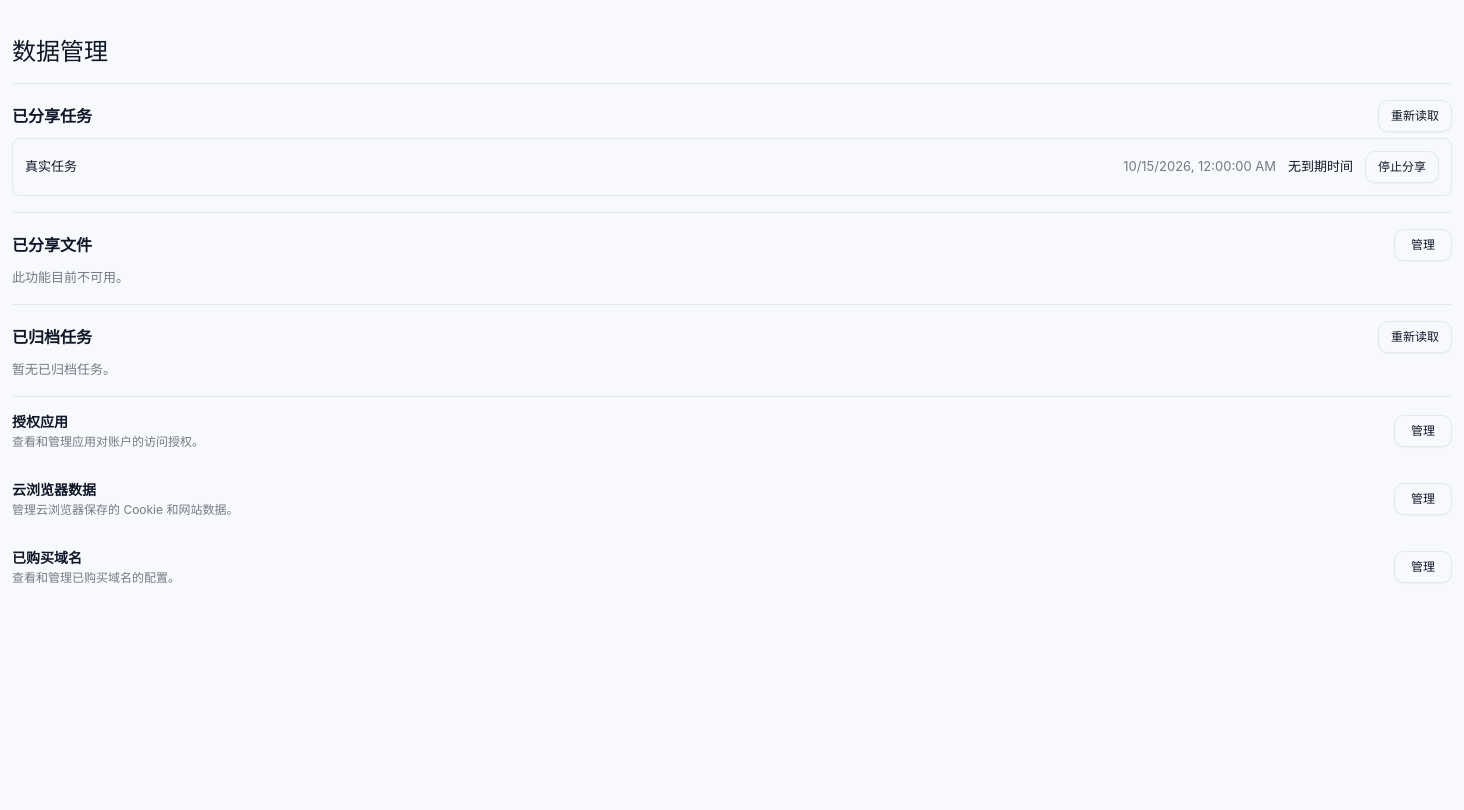
requires confirmation and clears the confirmation when identity retires
Check: the text "真实任务" is shown, box [25, 158, 77, 174]
Click the button "停止分享". click: x=1402, y=167
box: [1365, 151, 1439, 183]
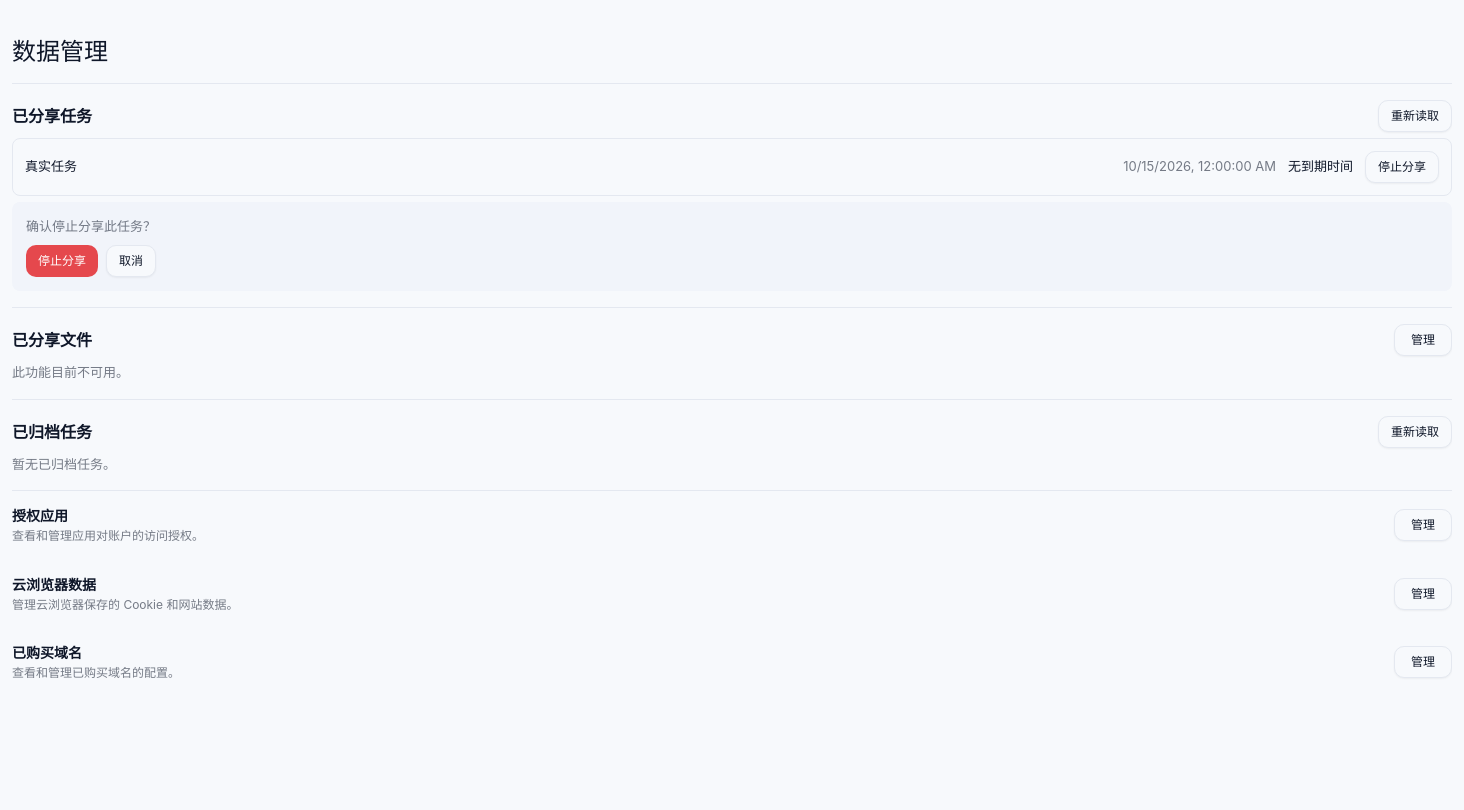
Check: the element showing "确认停止分享此任务？ 停止分享 取消" is shown, box [12, 202, 1452, 291]
